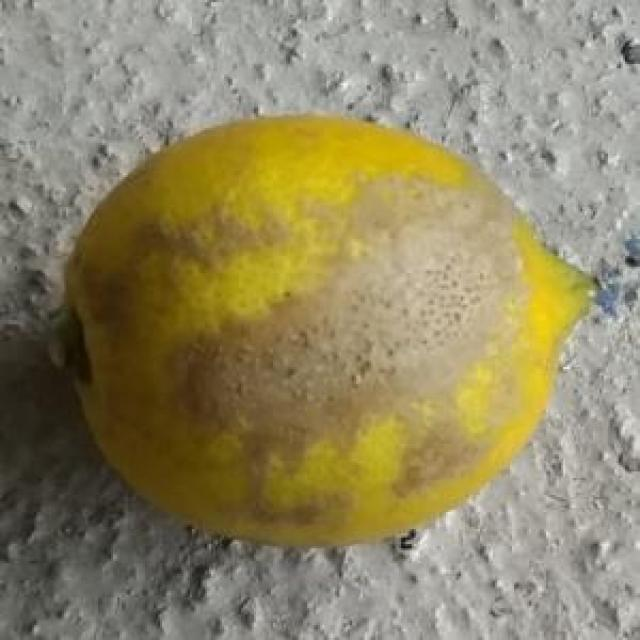lemon: (42, 110, 598, 539)
